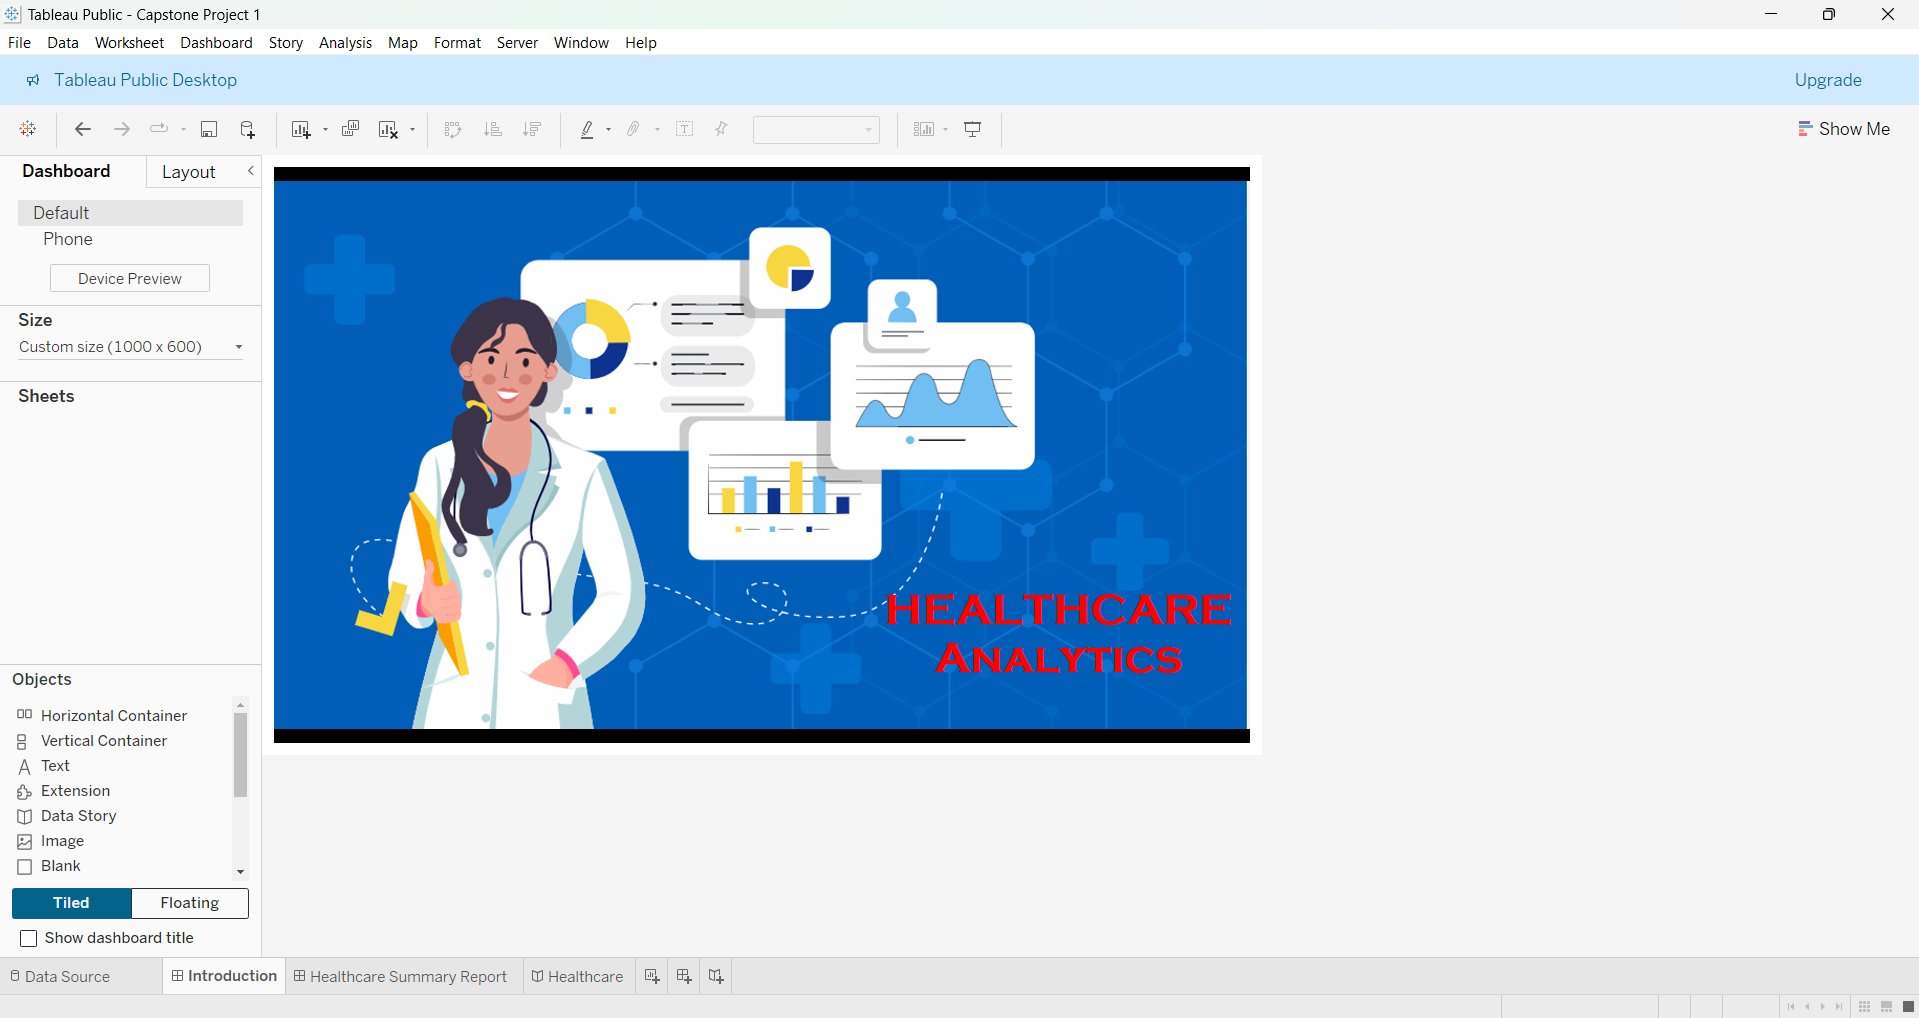

Layout of this report page (visuals, bound fields, positions):
{"tool":"tableau","page":{"name":"Introduction","canvas":[1000,600],"ordinal":1},"visuals":[{"type":"image","param":"Image/Healthcare.png","box":[8,8,984,584]},{"type":"text","box":[611,389,371,180]}]}

Visuals, with their boxes on the page's 1000x600 design canvas (x1, y1, x2, y2). These are canvas units, not pixel positions in the 1919x1018 screenshot, which may show the page scaled, cropped or inside an application window:
image: l=8, t=8, r=992, b=592
text: l=611, t=389, r=982, b=569
